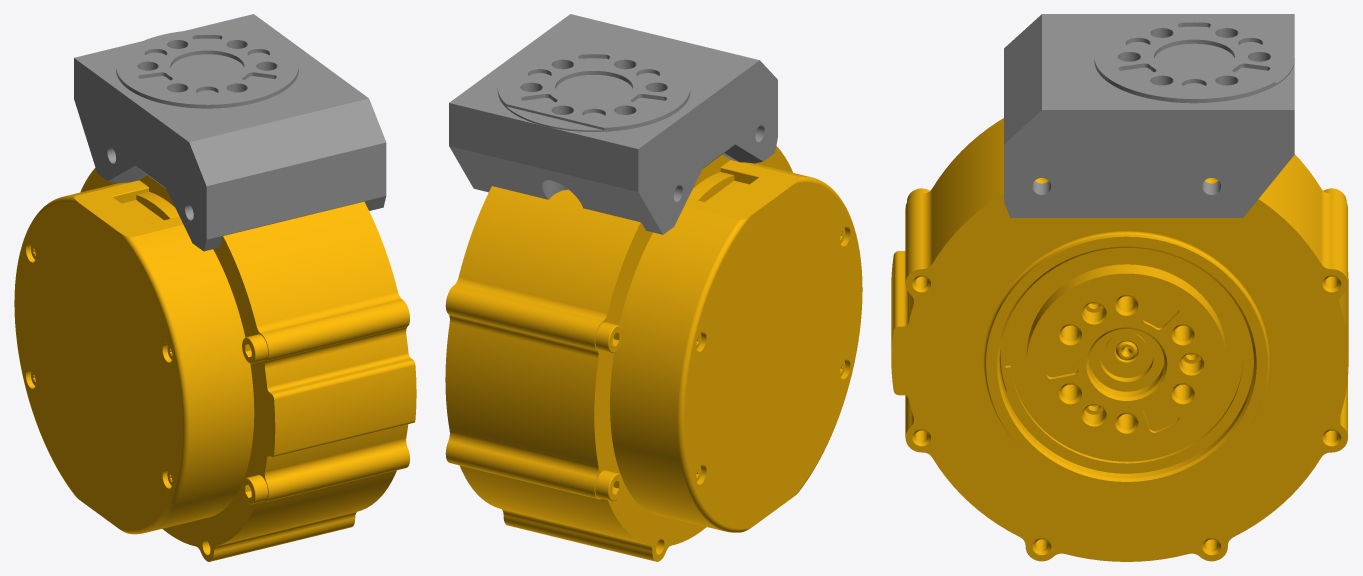
Rendered from Yaw_R.dae.
3 renders of one model, left to right at view 1: azimuth 30°, elevation 25°; view 2: azimuth 150°, elevation 25°; view 3: azimuth 270°, elevation 25°, orthographic. The views are drawn at different scales.
Parts seen in each view (by area): view 1: Yaw_R; view 2: Yaw_R; view 3: Yaw_R.
Boxes of the visible parts, box(x1,y1,x2,y2) form: Yaw_R: box(14, 14, 416, 561); Yaw_R: box(445, 14, 862, 561); Yaw_R: box(891, 14, 1348, 561).
Bounding box in the file's own units: 0.054 × 0.0845 × 0.0953.
